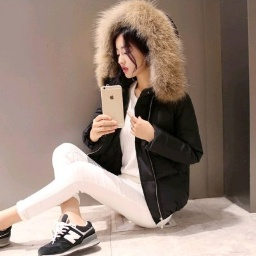face: (107, 24, 154, 83)
